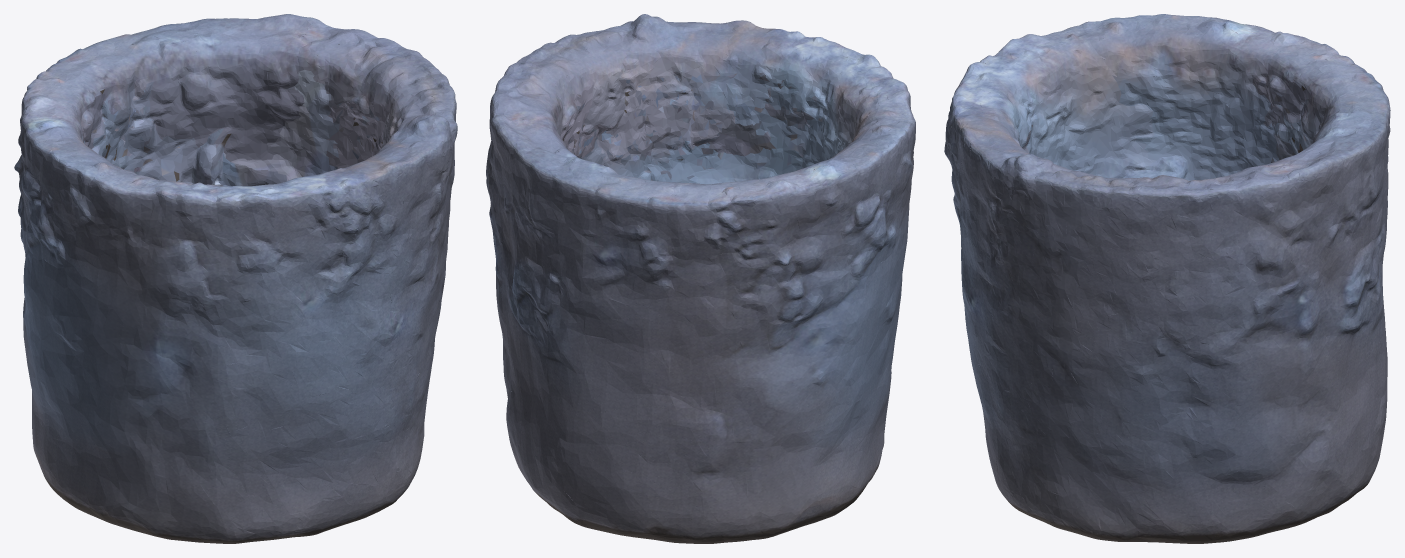
The model's file is model_download.glb.
The picture shows the model from 3 angles, left to right: view 1: azimuth 30°, elevation 25°; view 2: azimuth 150°, elevation 25°; view 3: azimuth 270°, elevation 25°; orthographic projection. The views are drawn at different scales.
Parts seen in each view (by area): view 1: world; view 2: world; view 3: world.
Boxes of the visible parts, x1,y1,x2,y2 form: world: (14,14,457,543); world: (486,14,915,543); world: (944,14,1390,543).
Bounding box in the file's own units: 1.99 × 1.89 × 1.98.
Materials: 1 (1 with a texture image).
